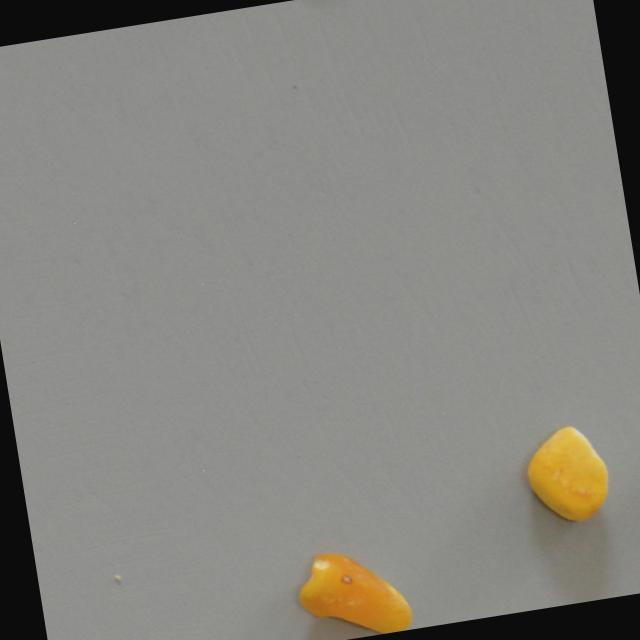dañado: (516, 412, 640, 540), (286, 531, 421, 640)
